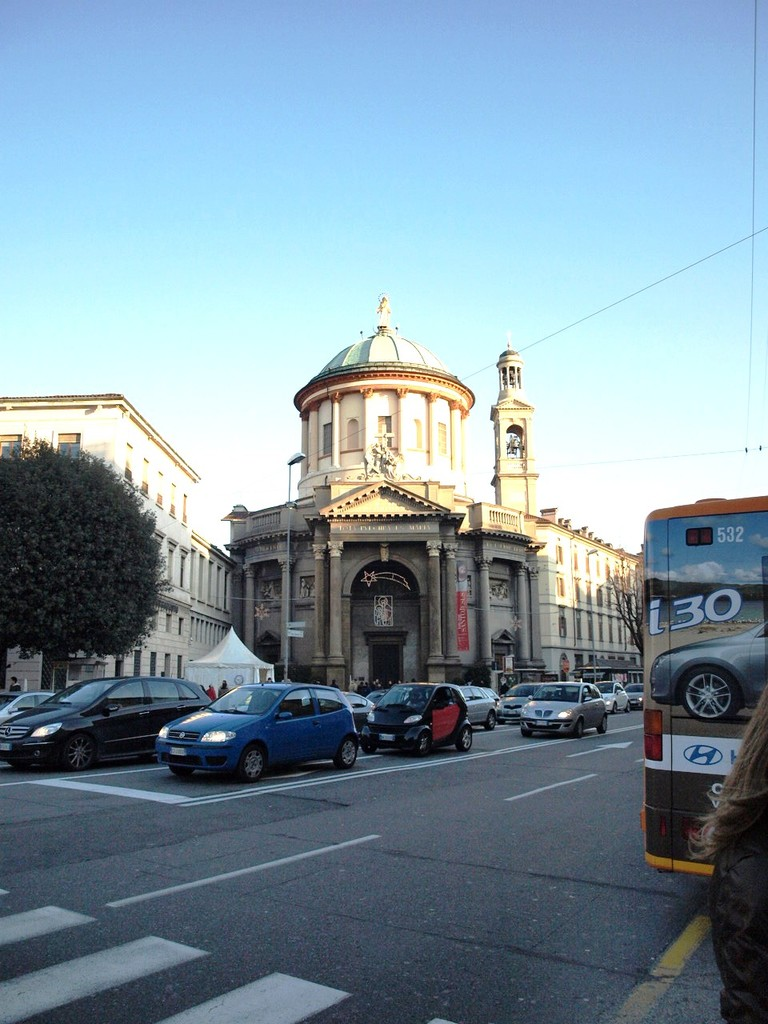Car: (0, 666, 644, 782), (653, 622, 767, 724)
